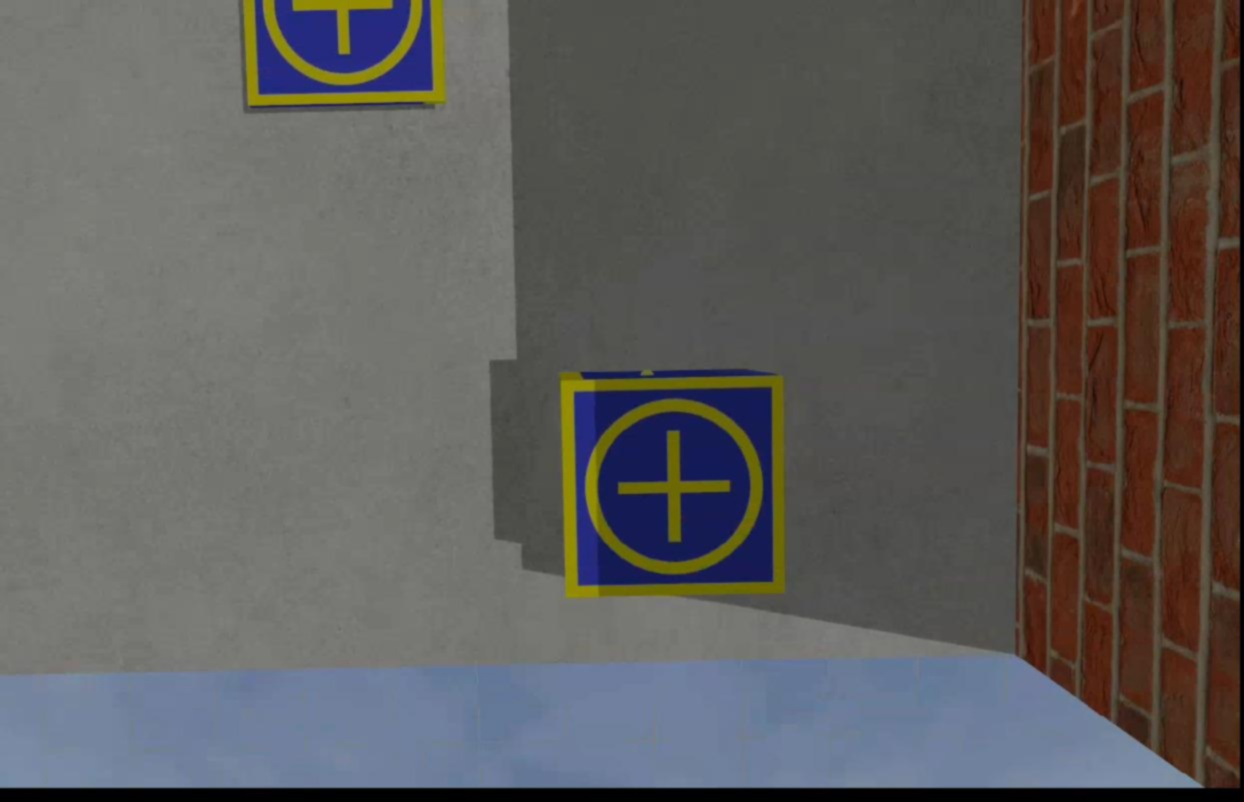small_base: (562, 374, 787, 598), (242, 1, 443, 108)
